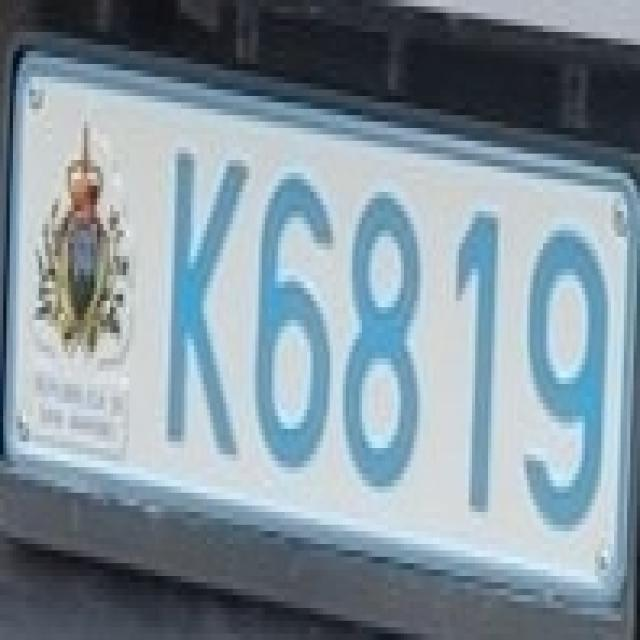1: (426, 179, 511, 506)
6: (236, 154, 343, 474)
8: (333, 166, 433, 486)
9: (508, 204, 614, 532)
K: (142, 128, 249, 461)
